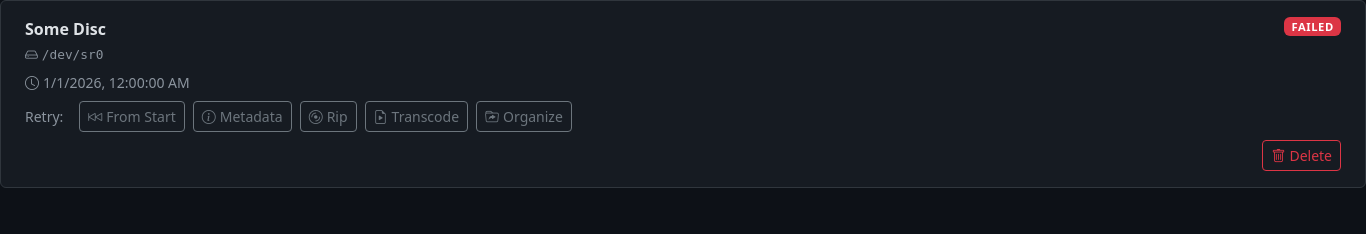
Test case: JobCard › shows an error message when rerunStage rejects
Click the button "Rip" at (328, 117), box [300,101,356,132]
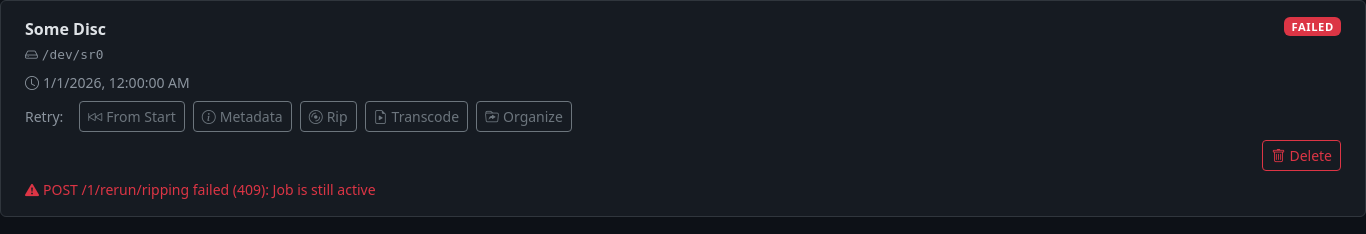
Expected: the text "POST /1/rerun/ripping failed (409): Job is still active" is shown, [25,180,376,199]
